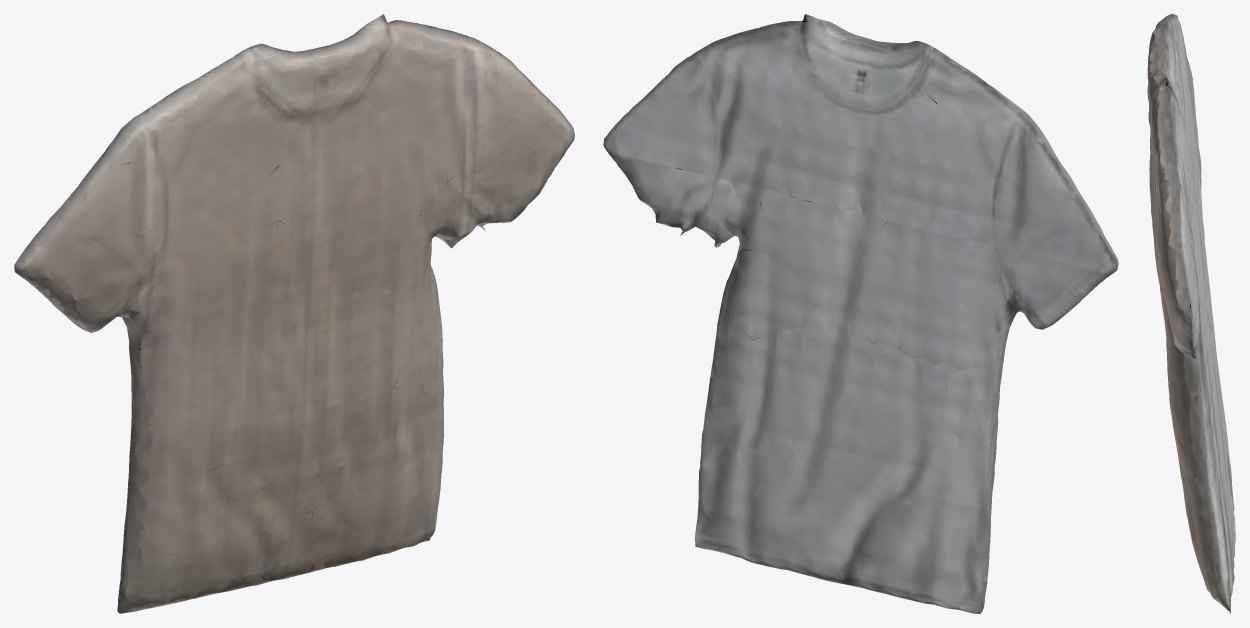
Rendered from prendaPlayera_Eejemplo.glb.
3 views of the same model, side by side, from view 1: azimuth 30°, elevation 25°; view 2: azimuth 150°, elevation 25°; view 3: azimuth 270°, elevation 25° (orthographic). The views are drawn at different scales.
Visible parts, largest first — view 1: world; view 2: world; view 3: world.
Boxes of the visible parts, x1,y1,x2,y2 form: world: (14, 14, 574, 613); world: (603, 14, 1118, 613); world: (1147, 14, 1235, 613).
Bounding box in the file's own units: 0.9241 × 0.9062 × 0.1439.
1 material, 1 textured.
